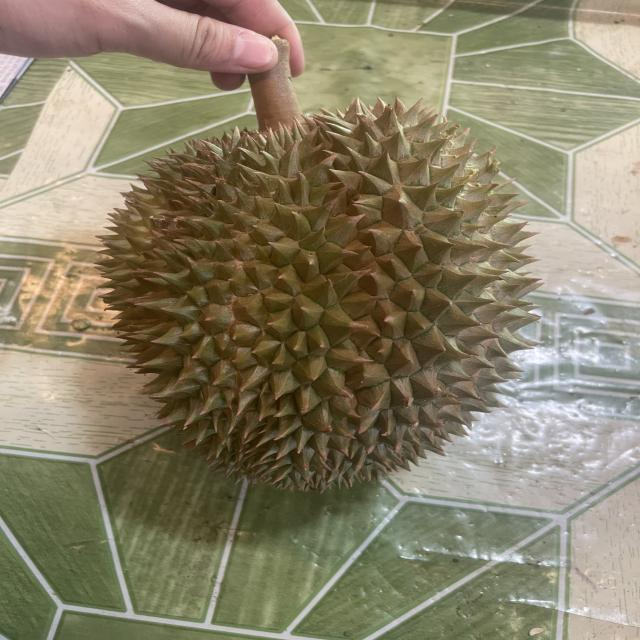mature: (85, 91, 560, 498)
